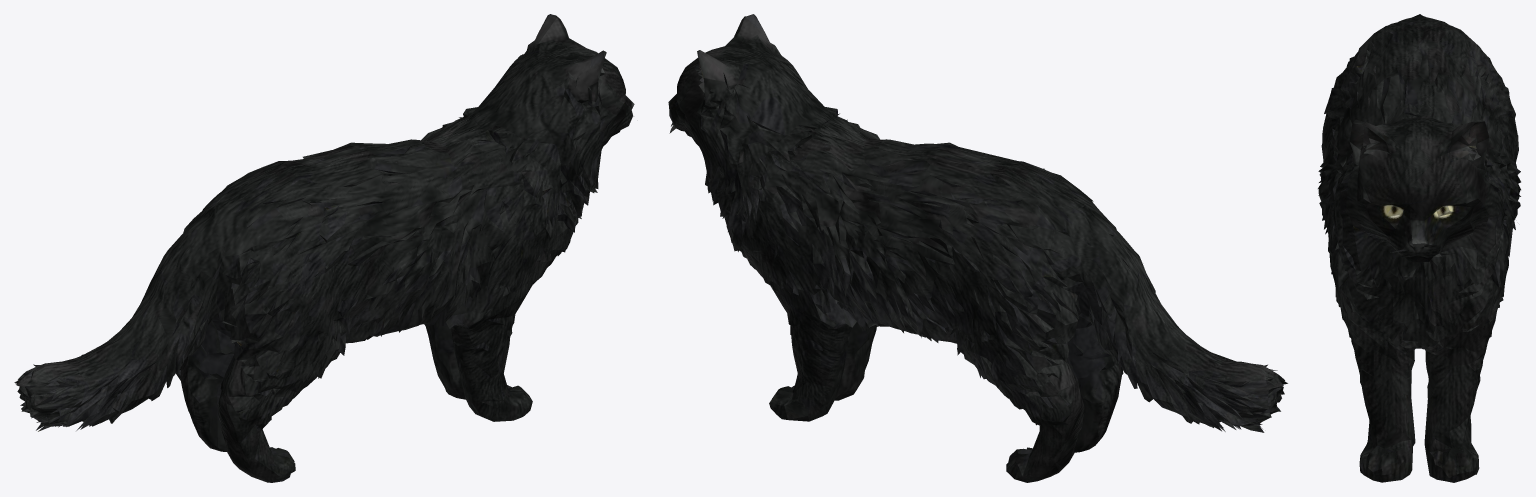
Rendered from COLEMARM.glb.
The picture shows the model from 3 angles, left to right: view 1: azimuth 30°, elevation 25°; view 2: azimuth 150°, elevation 25°; view 3: azimuth 270°, elevation 25°; orthographic projection. The views are drawn at different scales.
Parts seen in each view (by area): view 1: fit; view 2: fit; view 3: fit.
Part boxes in pixels (x1=…): fit: x1=14, y1=14, x2=634, y2=482; fit: x1=668, y1=14, x2=1287, y2=482; fit: x1=1318, y1=14, x2=1520, y2=482.
Bounding box in the file's own units: 1.86 × 1 × 0.4619.
Materials: 1 (1 with a texture image).
